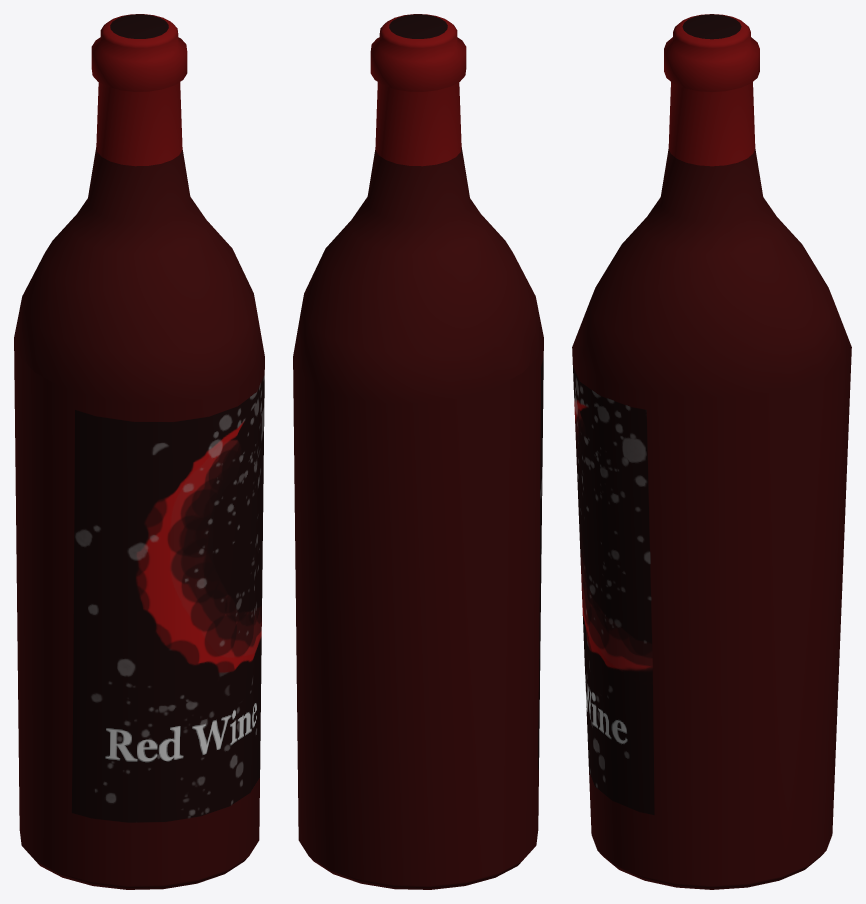
The model's file is Bottle_Redwine.fbx.
3 views of the same model, side by side, from view 1: azimuth 30°, elevation 25°; view 2: azimuth 150°, elevation 25°; view 3: azimuth 270°, elevation 25° (orthographic).
Parts seen in each view (by area): view 1: pCylinder21; view 2: pCylinder21; view 3: pCylinder21.
Part boxes in pixels (x1,y1,x2,y2): pCylinder21: (14,14,264,889); pCylinder21: (293,14,543,889); pCylinder21: (572,14,851,889).
Size of the model in its own units: 1.7 by 6.38 by 1.97.
